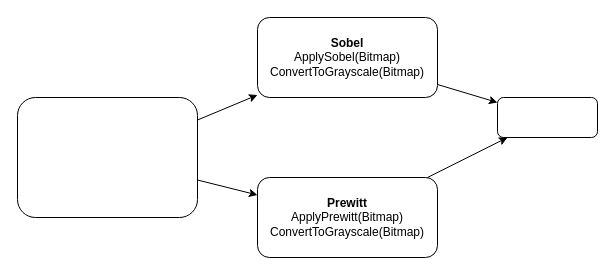
Some shapes in this 615 by 275 pixel diagram are drawn without their labels. Each missing label, with the centre of its shape:
"Bitmap" goes at pixel 547 117.
"Program Main(string[] args) SelectInputFile() SelectSaveFile()" goes at pixel 107 157.
